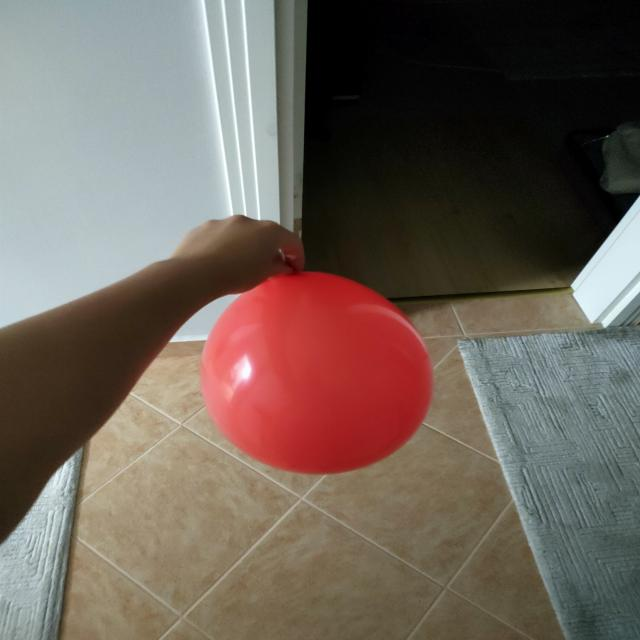red: (198, 271, 435, 474)
